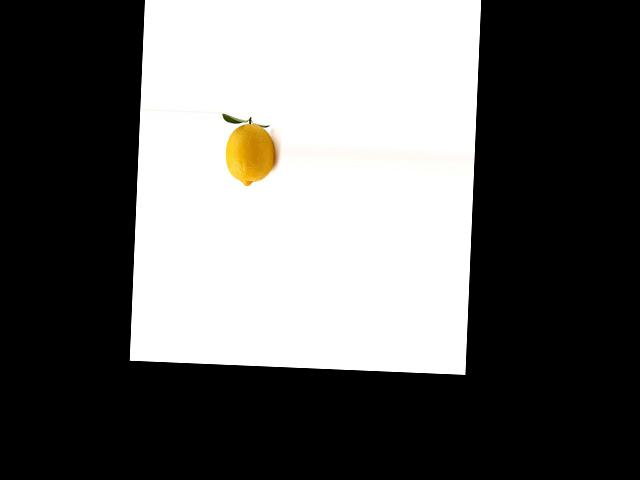lemon: (223, 121, 278, 190)
